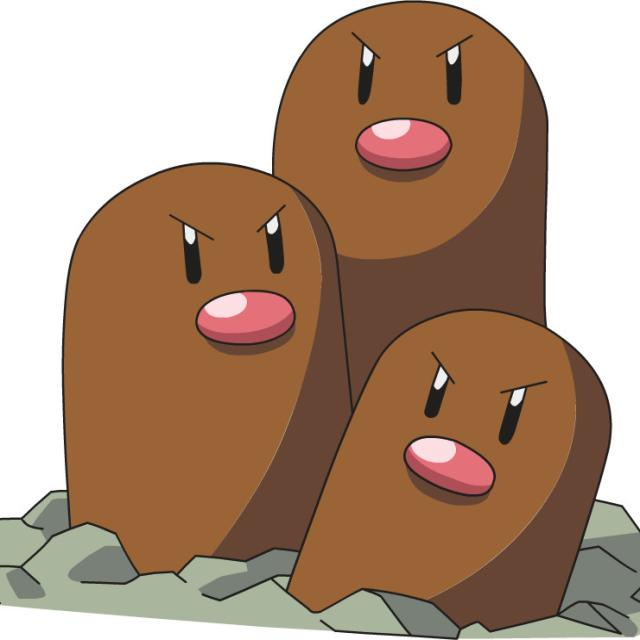Dugtrio: (44, 0, 600, 615)
